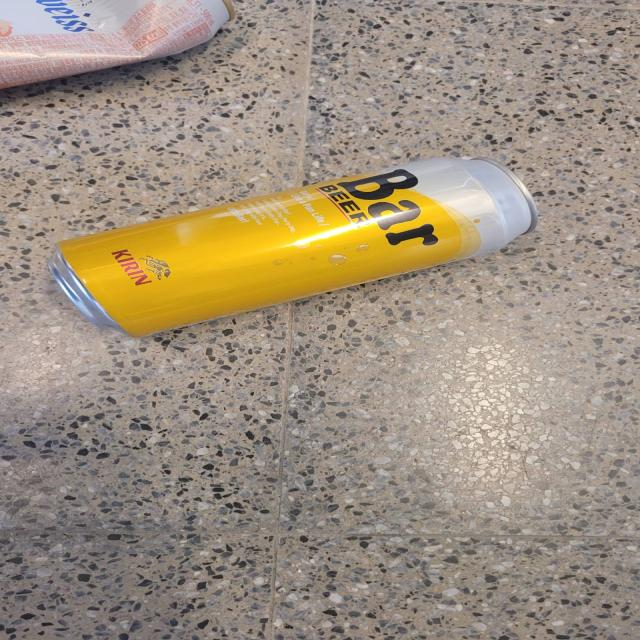Metal Cans: (25, 149, 554, 349), (0, 0, 253, 92)
